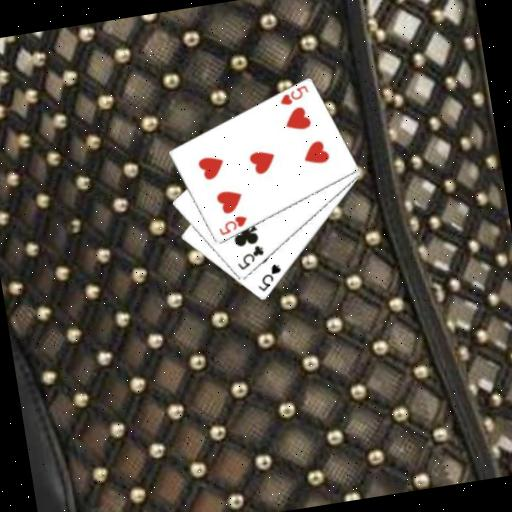5C: (231, 241, 267, 272)
5H: (214, 211, 251, 238), (274, 82, 311, 109)
5S: (251, 261, 285, 294)
